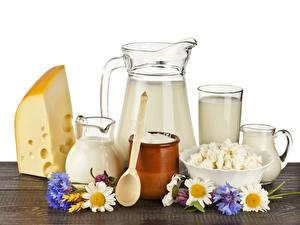chamomile: (80, 188, 116, 214), (183, 183, 217, 205), (244, 188, 273, 212)
